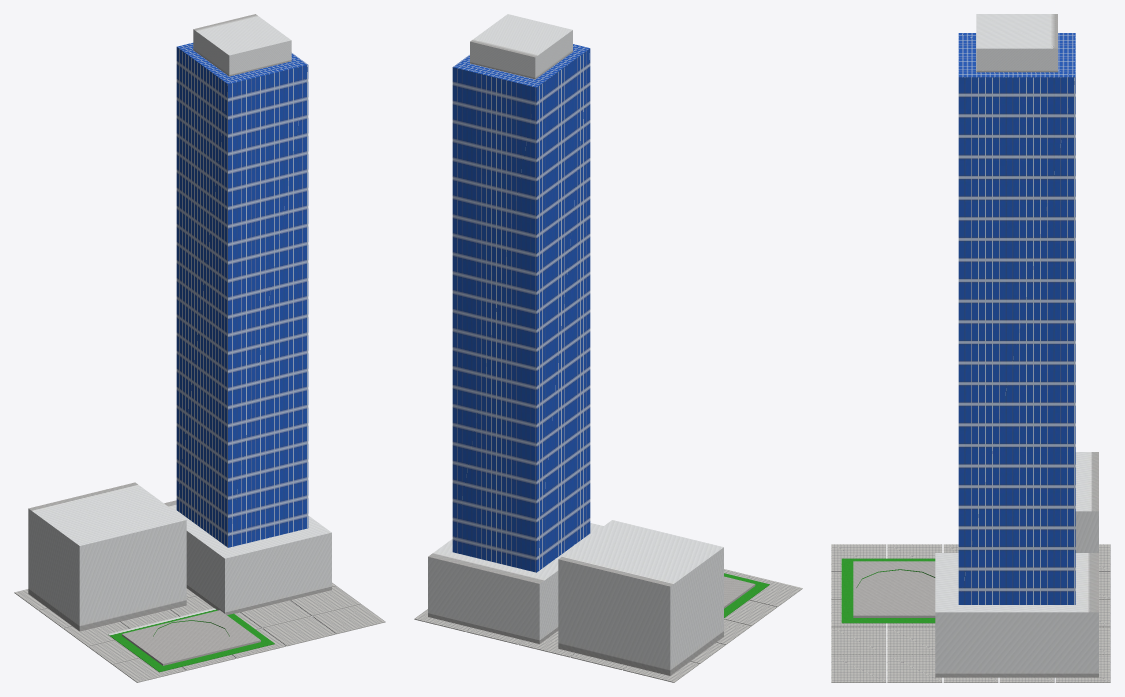
The picture shows the model from 3 angles, left to right: view 1: azimuth 30°, elevation 25°; view 2: azimuth 150°, elevation 25°; view 3: azimuth 270°, elevation 25°; orthographic projection. The views are drawn at different scales.
Parts seen in each view (by area): view 1: 28185_B21_Incheon_Global_Campus; view 2: 28185_B21_Incheon_Global_Campus; view 3: 28185_B21_Incheon_Global_Campus.
Boxes of the visible parts, box(x1,y1,x2,y2) form: 28185_B21_Incheon_Global_Campus: box(14, 14, 385, 682); 28185_B21_Incheon_Global_Campus: box(414, 14, 802, 682); 28185_B21_Incheon_Global_Campus: box(831, 14, 1110, 682).
Bounding box in the file's own units: 55.8 × 116 × 47.8.
Materials: 1 (1 with a texture image).
